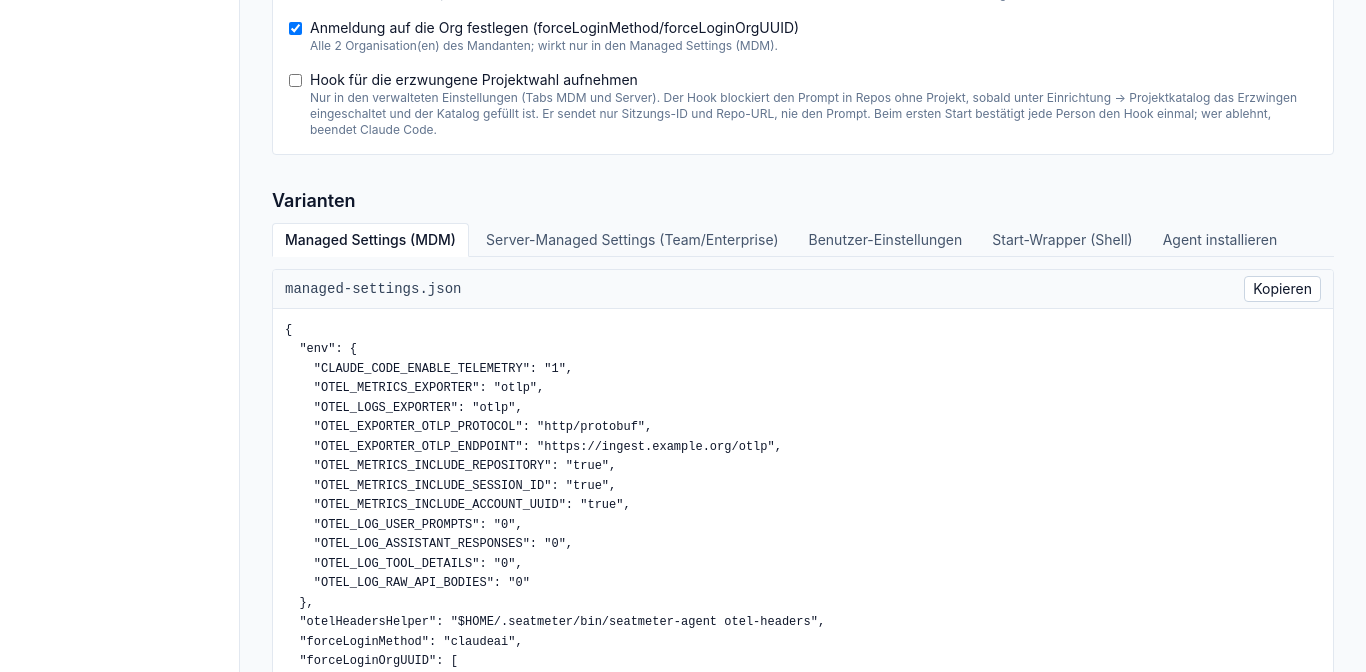
Test: Ausrollen › kopiert einen Schnipsel und zeigt ohne Zwischenablage den Hinweis
The image size is (1366, 672).
(page scrolled)
Click the button with aria-label "managed-settings.json kopieren".
click(1283, 289)  # box [1244,276,1321,302]
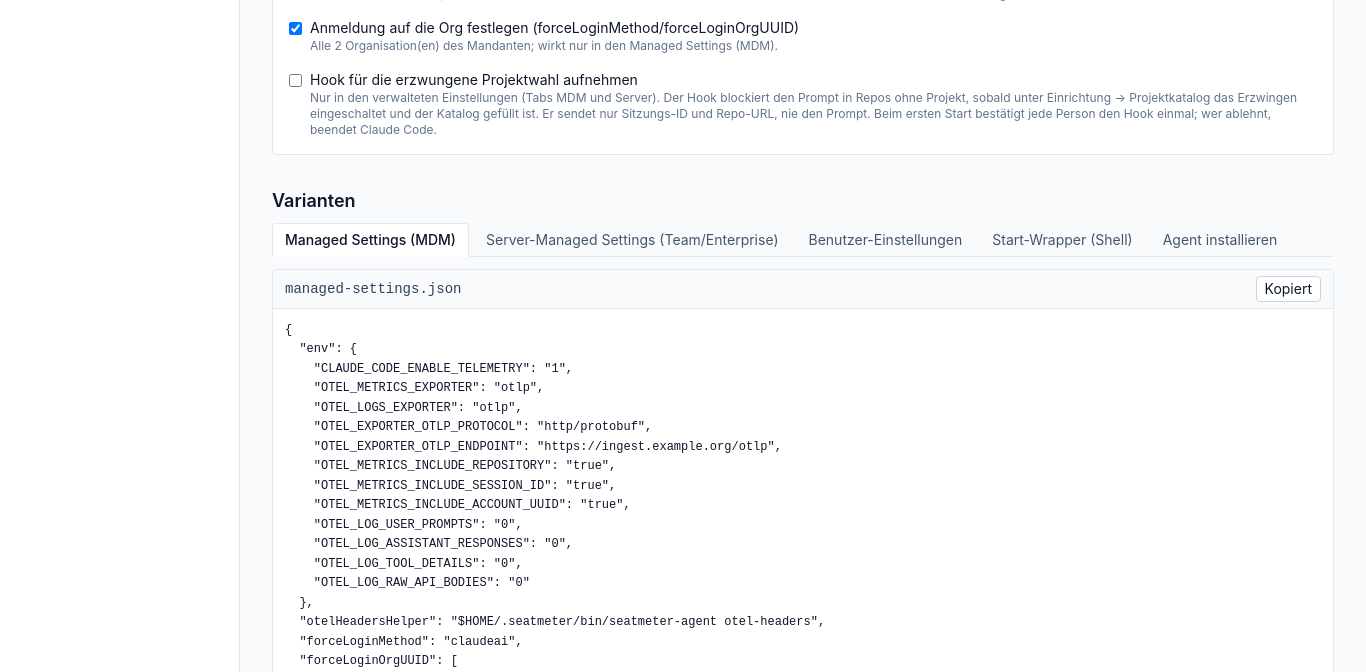
Result: the button with aria-label "managed-settings.json kopieren" reads "Kopiert" at [1256,276,1321,302]
Click the tab "Benutzer-Einstellungen".
click(885, 240)  # box [796,223,975,257]
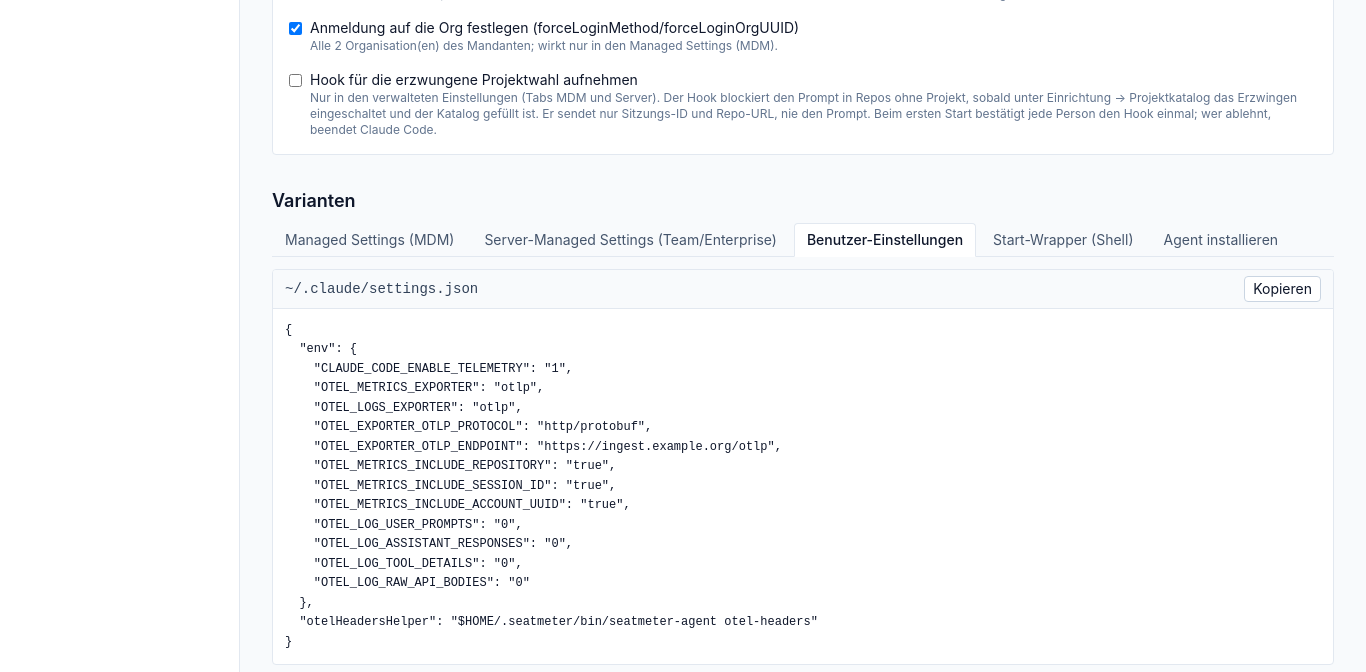
Click the button with aria-label "~/.claude/settings.json kopieren".
click(1283, 289)  # box [1244,276,1321,302]
(page scrolled)
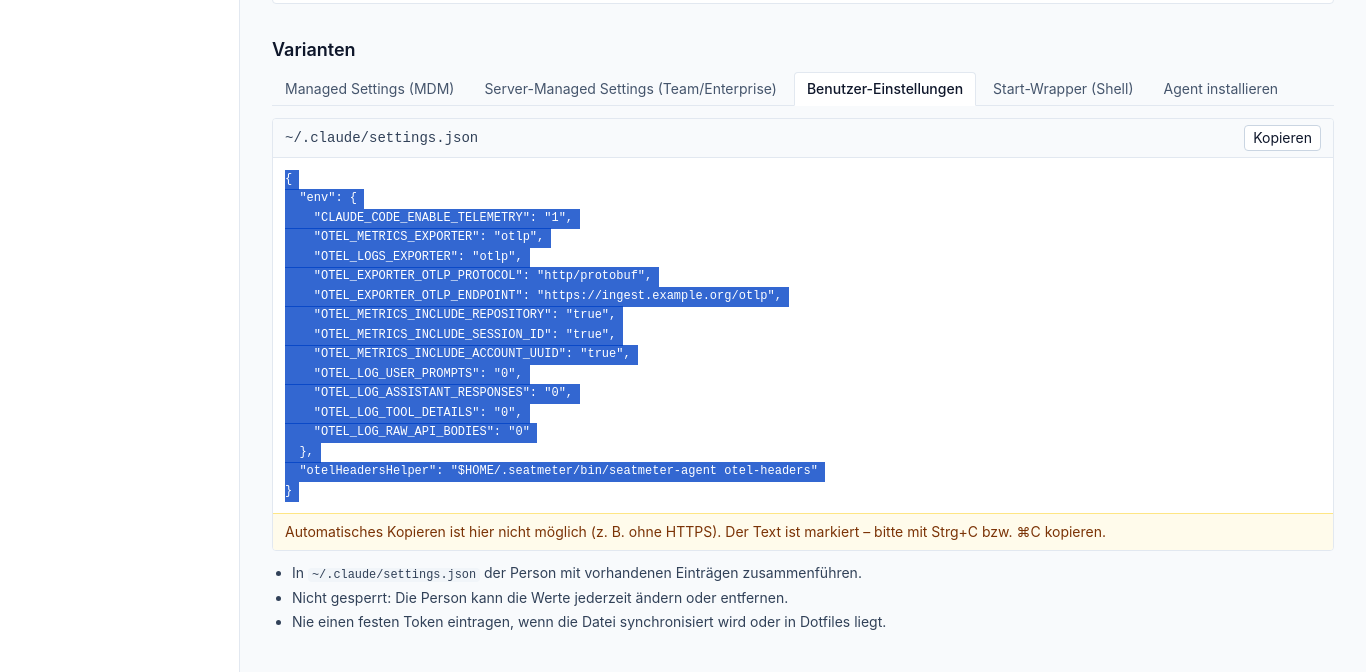
Result: the text "Automatisches Kopieren ist hier nicht möglich" is shown at [285,523,1106,540]
